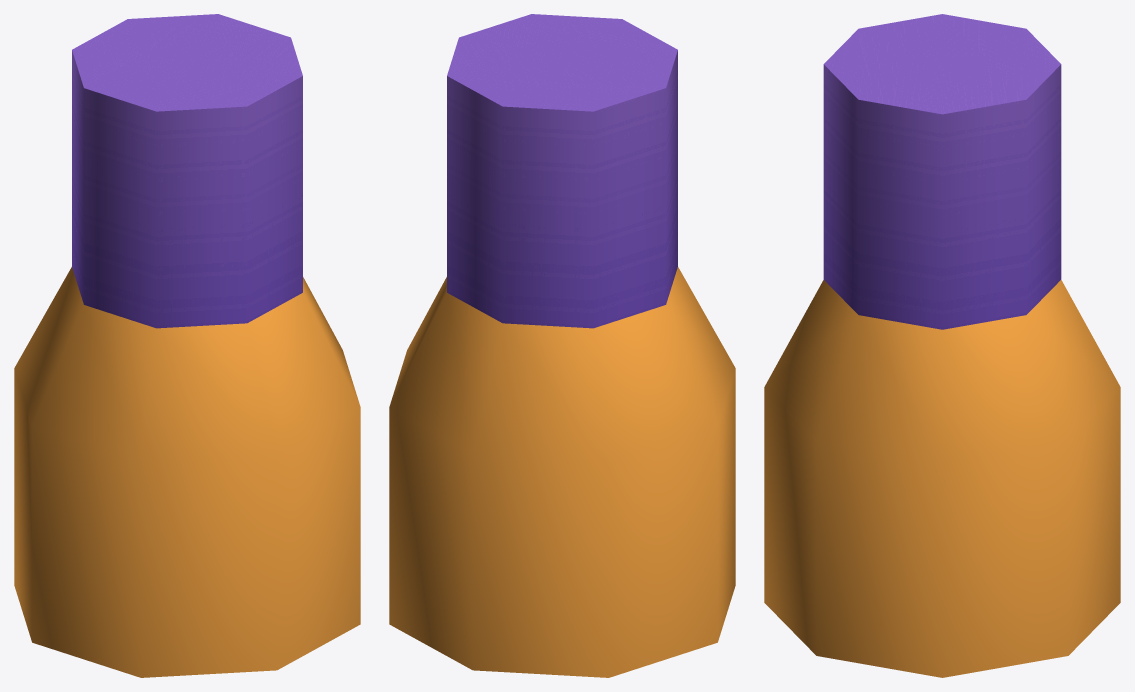
File: fan-simple-two-col.glb
3 renders of one model, left to right at view 1: azimuth 30°, elevation 25°; view 2: azimuth 150°, elevation 25°; view 3: azimuth 270°, elevation 25°, orthographic.
Parts seen in each view (by area): view 1: fan-simple-two-col; view 2: fan-simple-two-col; view 3: fan-simple-two-col.
Part boxes in pixels (box(x1,y1,x2,y2)): fan-simple-two-col: box(14, 14, 360, 677); fan-simple-two-col: box(389, 14, 735, 677); fan-simple-two-col: box(764, 14, 1120, 677).
Bounding box in the file's own units: 0.3 × 0.5 × 0.3.
Materials: 1 (1 with a texture image).
